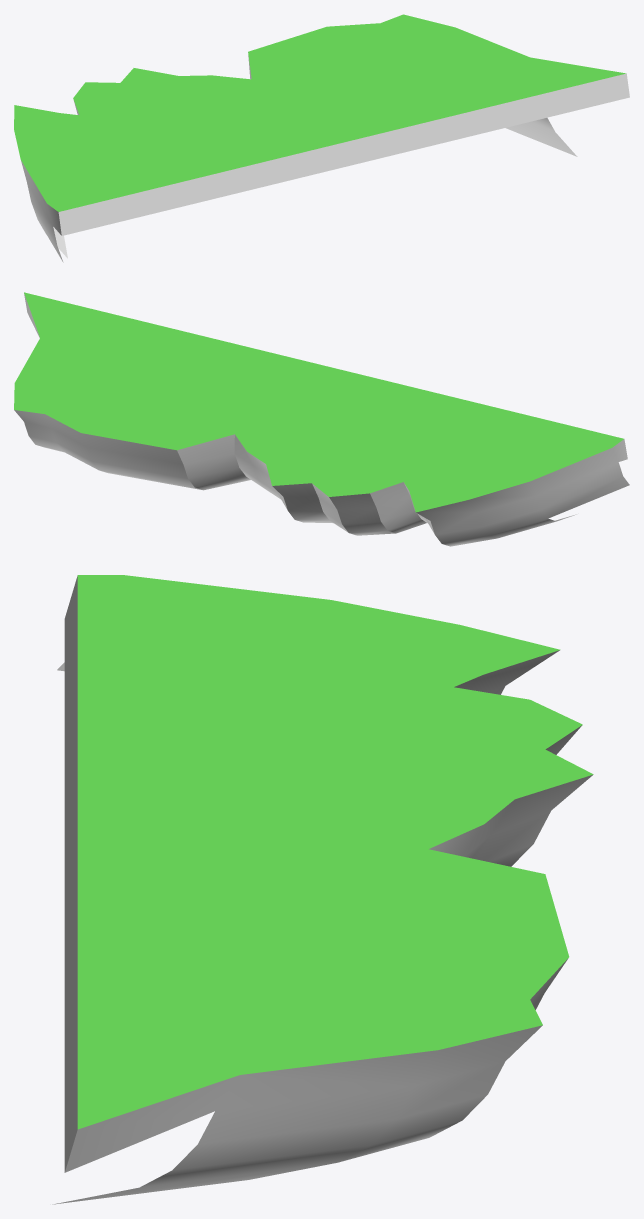
File: ast.glb
3 renders of one model, top to bottom at view 1: azimuth 30°, elevation 25°; view 2: azimuth 150°, elevation 25°; view 3: azimuth 270°, elevation 25°, orthographic. The views are drawn at different scales.
Visible parts, largest first — view 1: Cube; view 2: Cube; view 3: Cube.
Part boxes in pixels (x1,y1,x2,y2): Cube: (14,14,629,262); Cube: (14,292,629,546); Cube: (52,575,593,1204).
Size of the model in its own units: 34.35 by 3.75 by 14.23.
